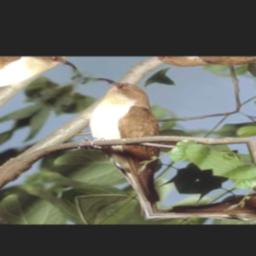Cuckoo: (0, 70, 256, 218)
